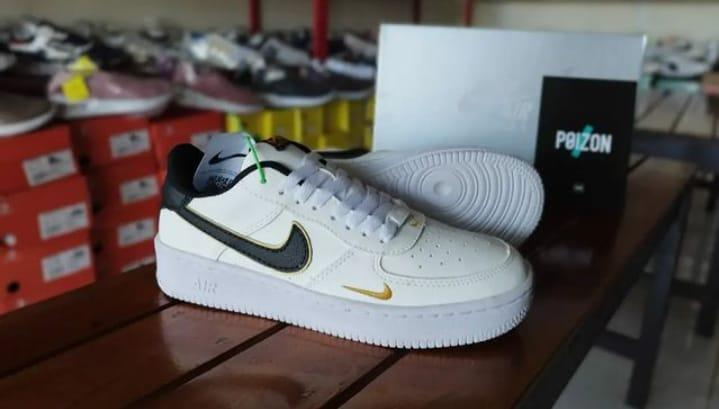shoe: (150, 130, 550, 349)
